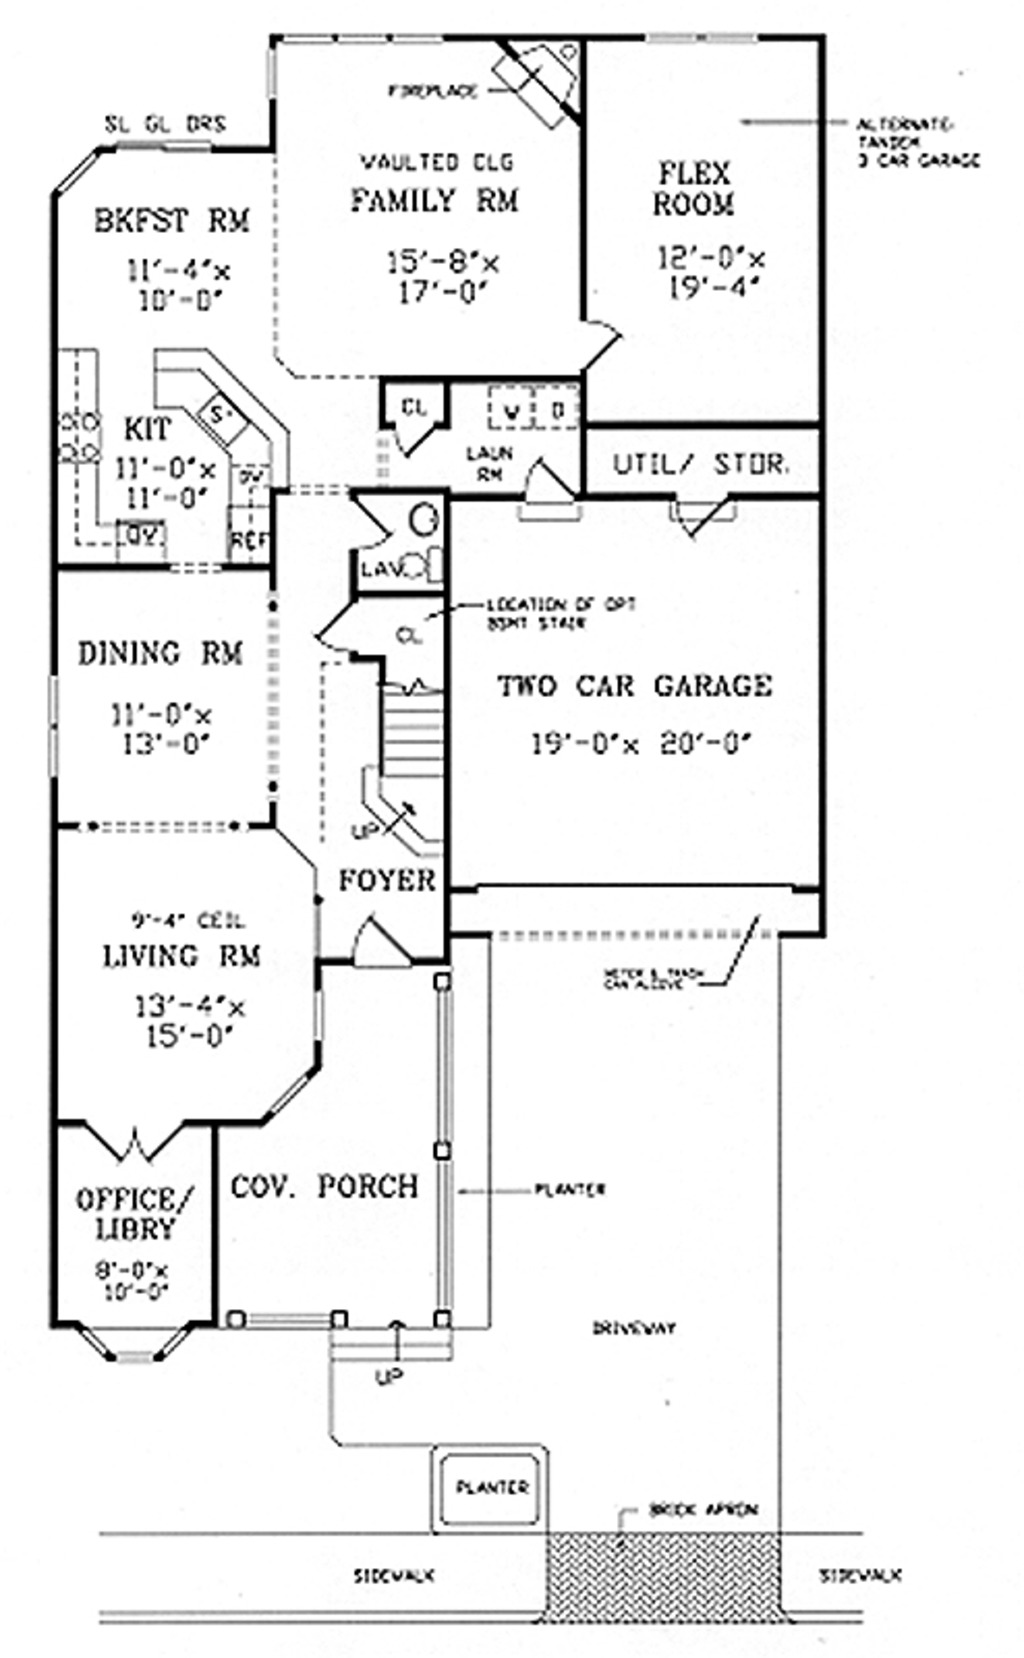door: (343, 915, 425, 1013), (507, 443, 591, 525), (84, 1103, 181, 1172), (566, 317, 630, 386), (668, 491, 743, 540), (309, 595, 353, 663), (384, 420, 440, 461), (353, 499, 391, 555)
large_sink: (397, 545, 445, 586)
small_sink: (402, 478, 440, 538)
stairs: (371, 656, 461, 868)
window: (62, 135, 214, 199), (76, 1315, 199, 1358), (271, 27, 455, 56), (30, 671, 76, 776), (655, 27, 766, 45), (314, 1002, 331, 1056)
